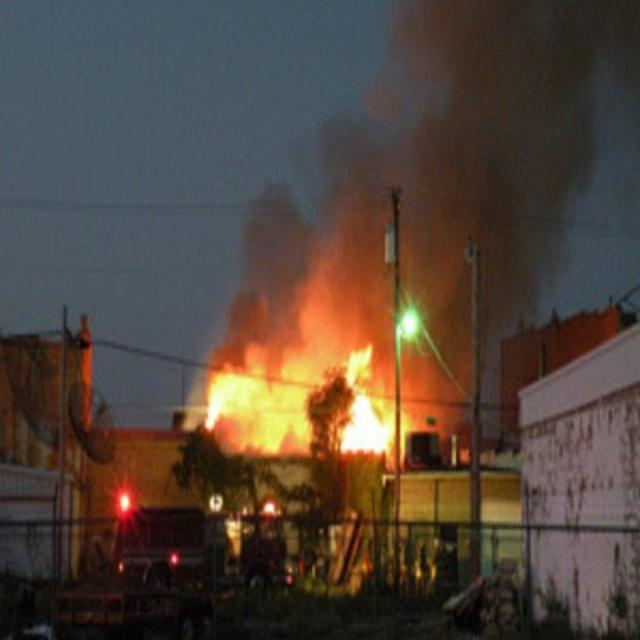Fire: (174, 304, 434, 485)
